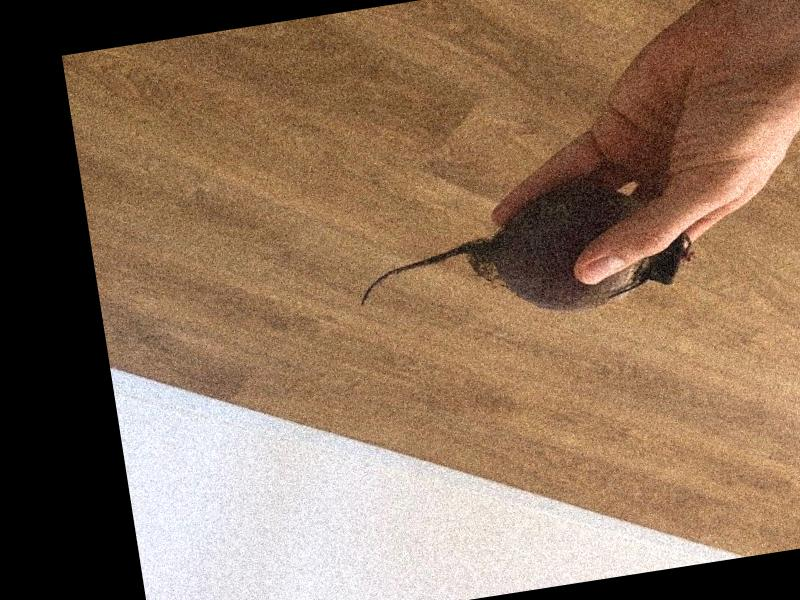Beet: (347, 171, 698, 342)
